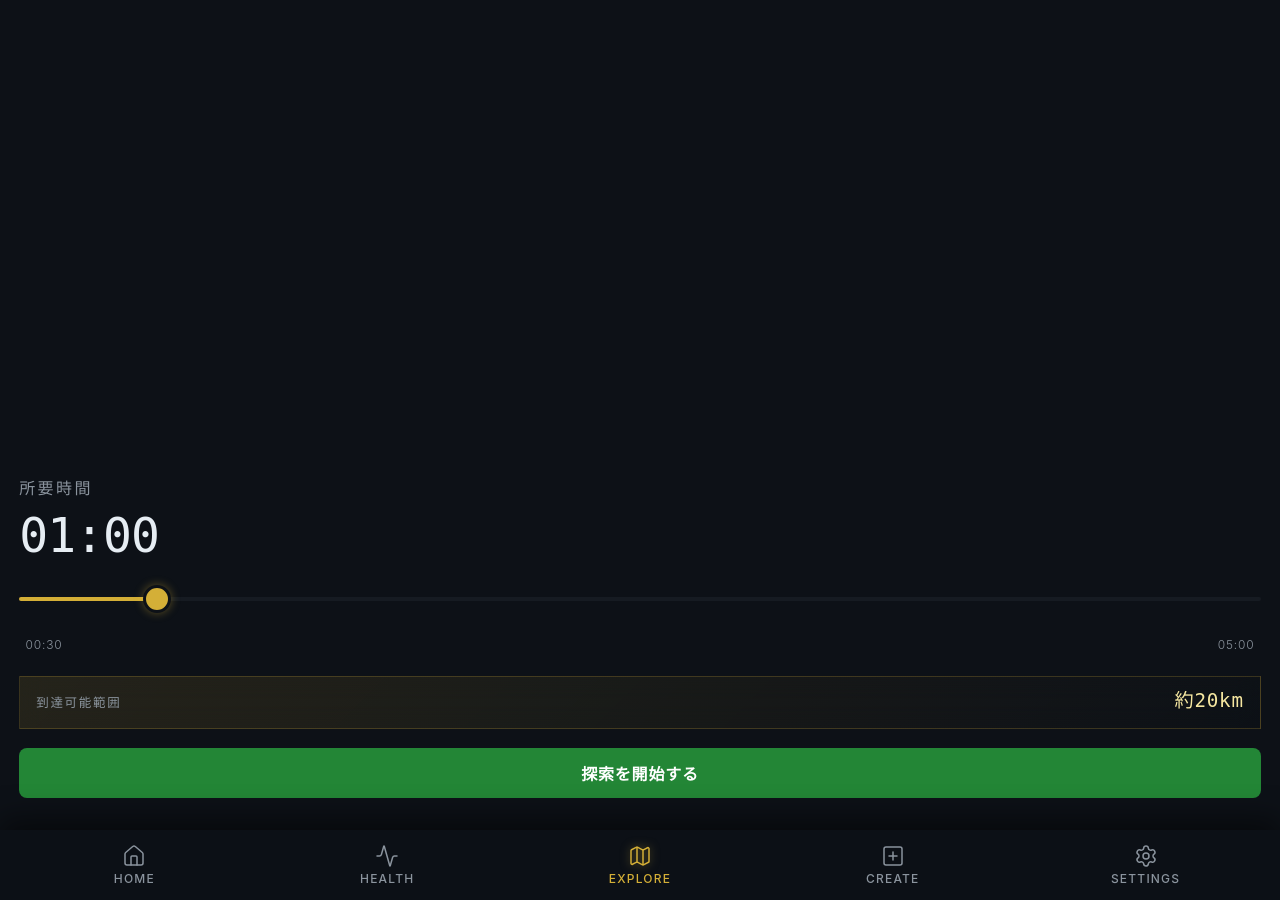
ExplorePage › EXM-UT-002 ルート探索API正常系: 探索開始でAPIが呼ばれる
Click the button "探索を開始する" at (640, 773), box [19,748,1261,798]
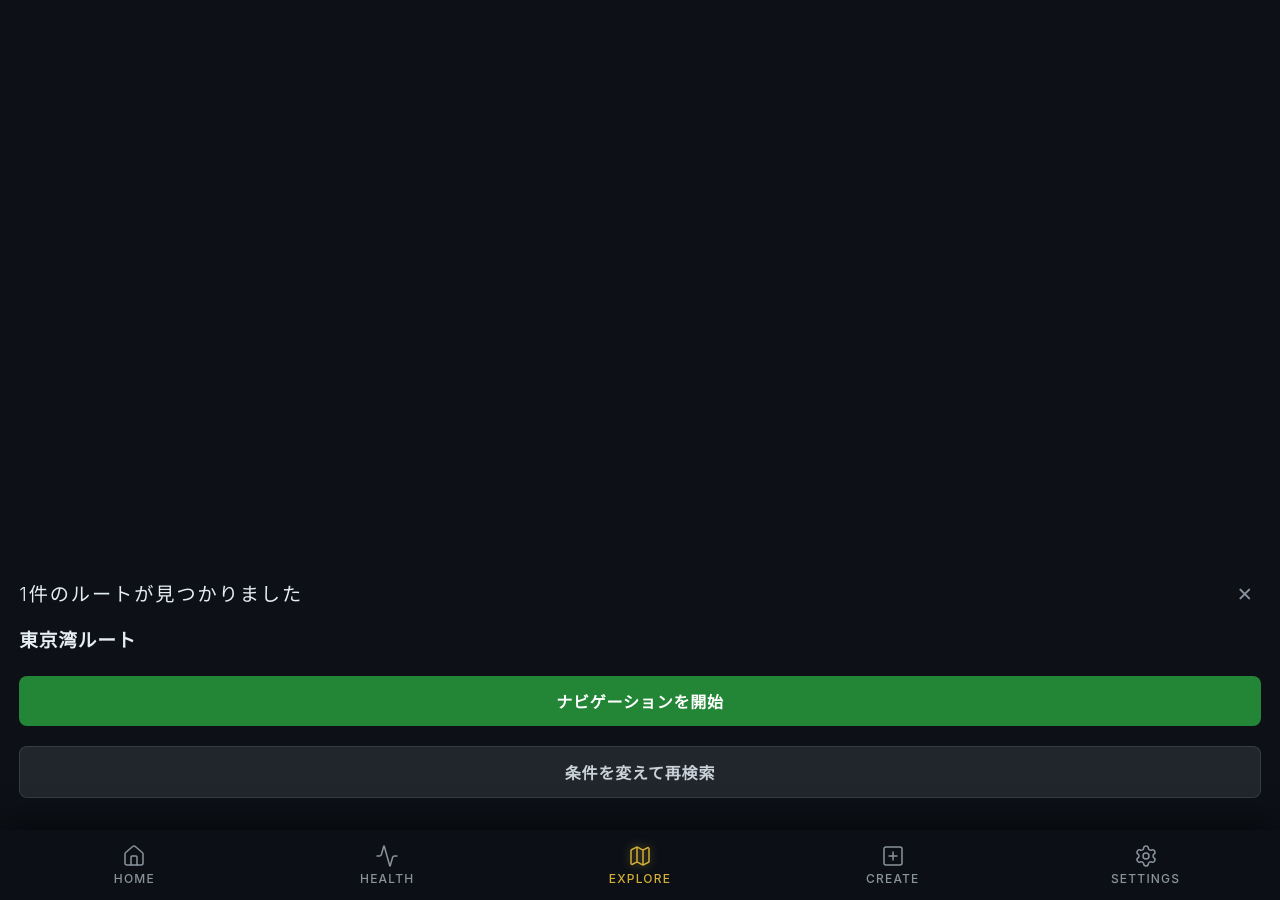
Expected: the heading "1件のルートが見つかりました" is shown, [19,579,303,610]
